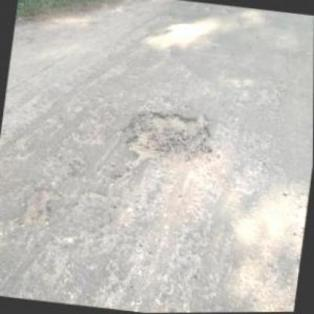Hueco: (121, 103, 219, 174), (21, 188, 57, 229)
